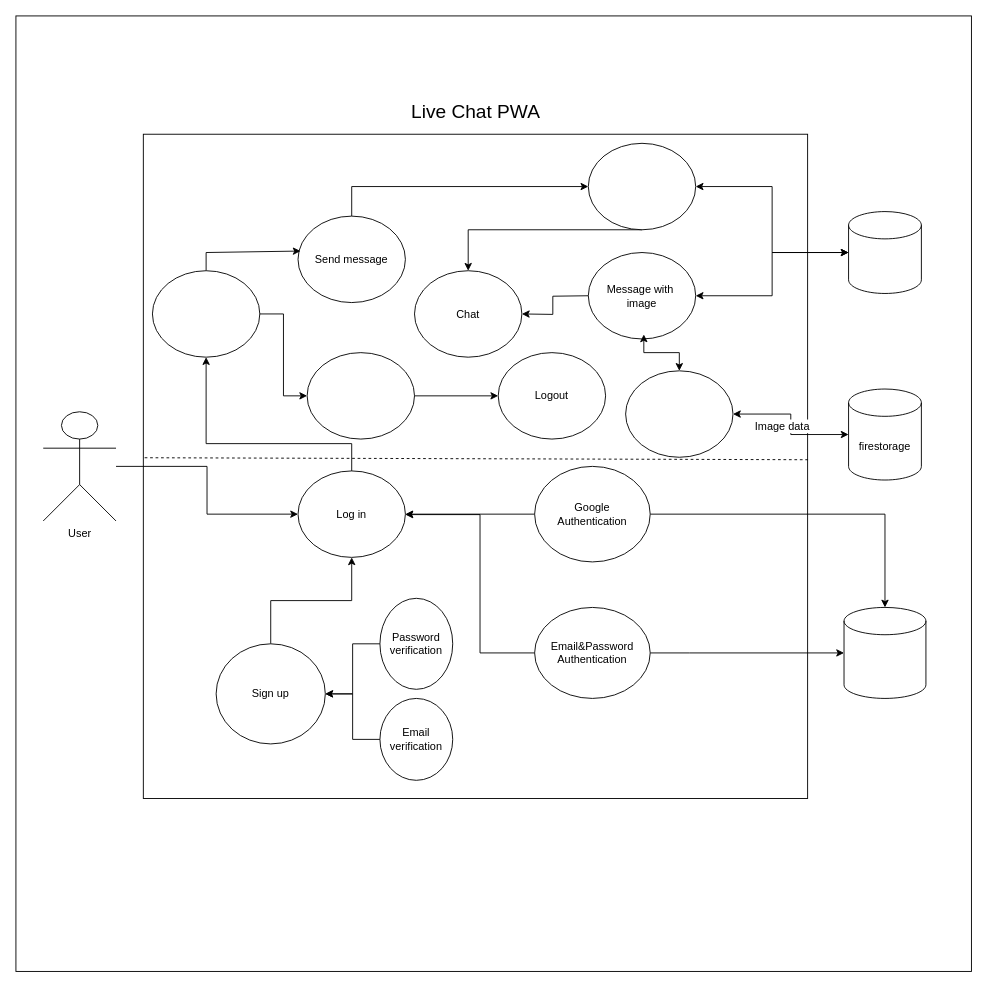
Image size: 987x987. Some labels were removed from this diagram. The centre of each missing label's shape, as x and y in pixels:
Chat Room Navigation: (x=206, y=313)
fireauth: (x=884, y=652)
firebase: (x=884, y=252)
Image: (x=679, y=413)
Profile: (x=360, y=395)
Text message: (x=641, y=186)
